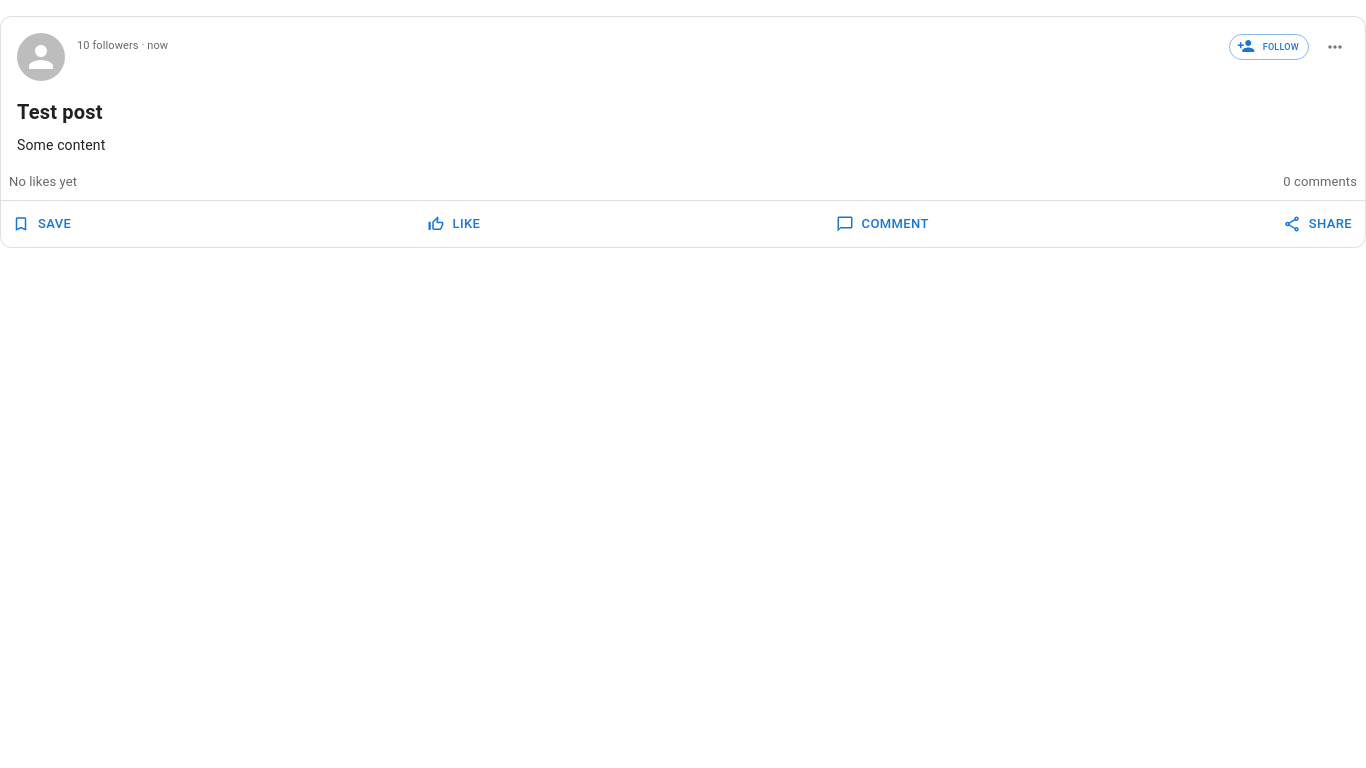
Test: Report-a-post: dialog flow › Submit enables after selecting a reason
Click the button named "post options".
click(1335, 47)  # box [1313,25,1357,69]
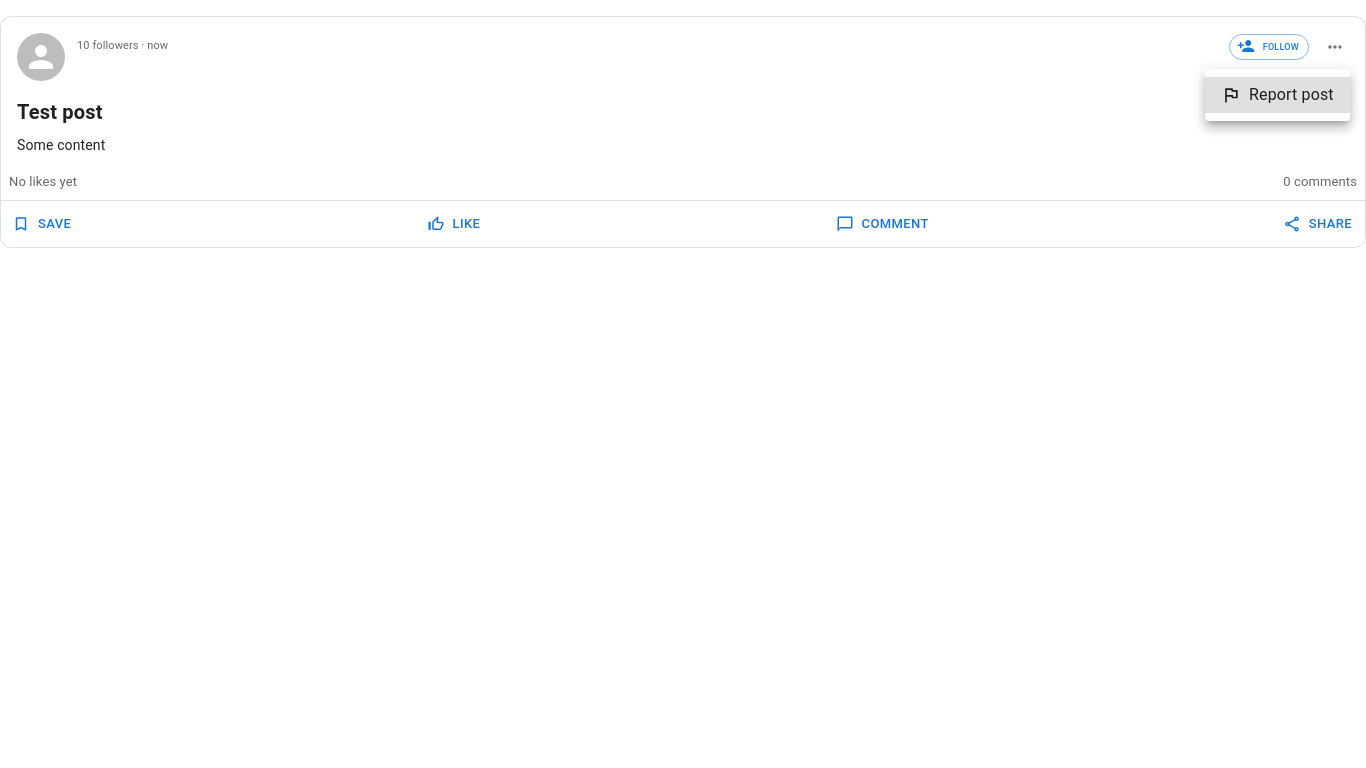
Click the menu item "Report post".
click(1277, 95)  # box [1205,77,1350,113]
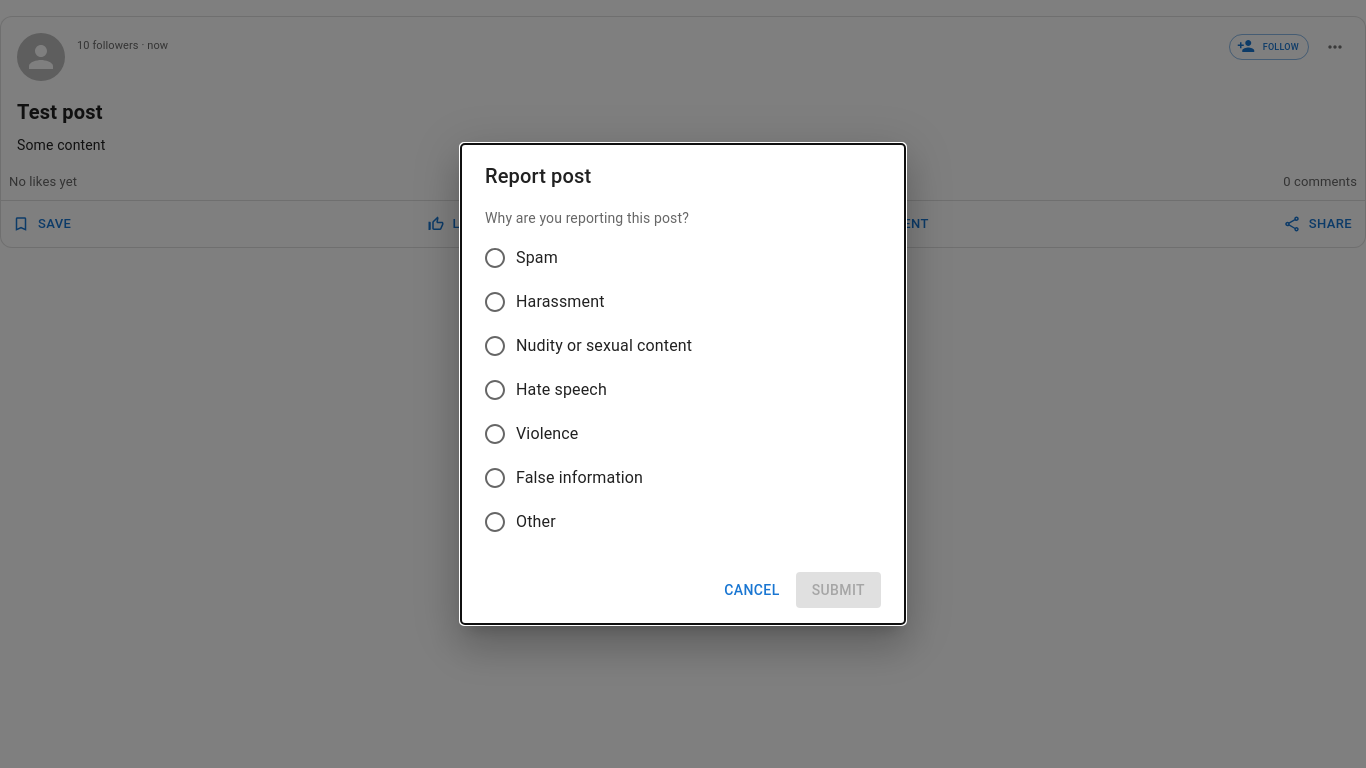
Click the radio button labelled "Spam".
click(520, 258)  # box [483,246,558,270]
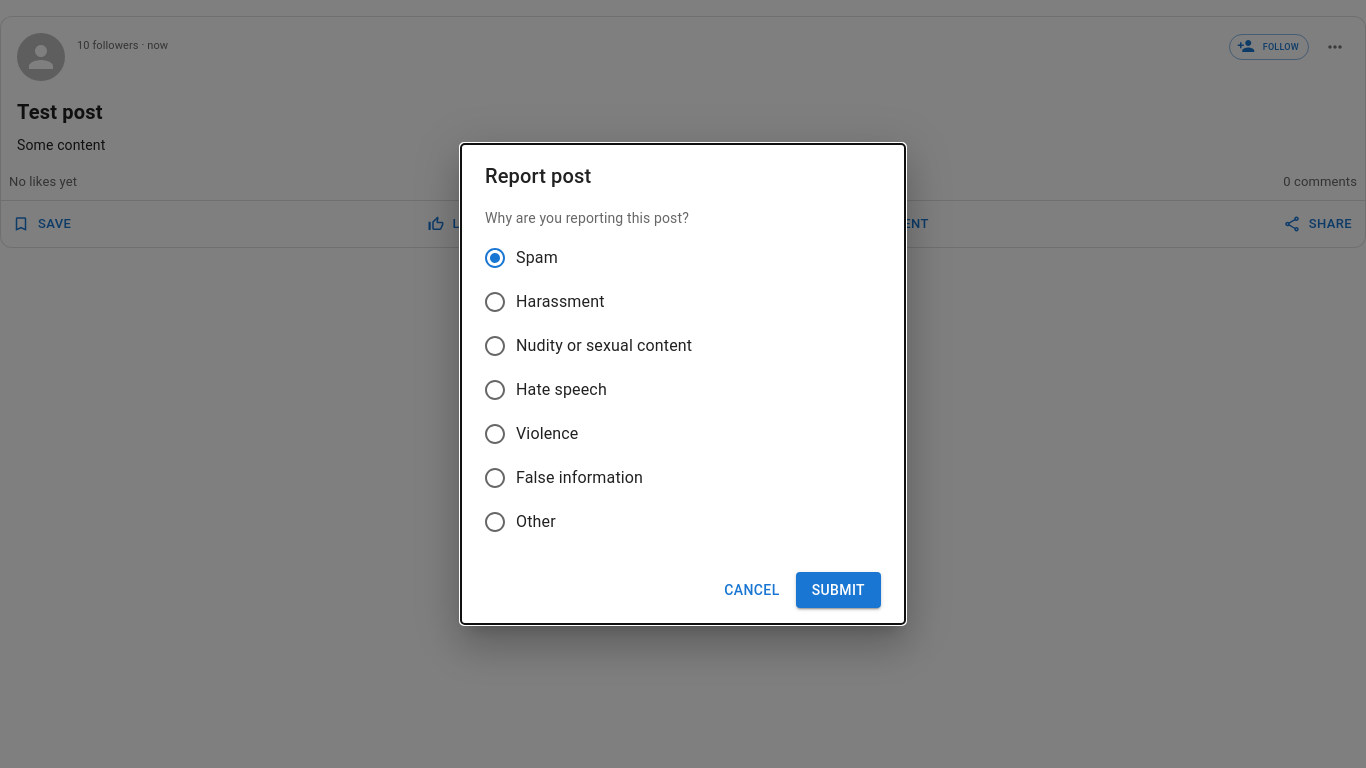
Expected: the button "Submit" is enabled, [796,572,881,608]
